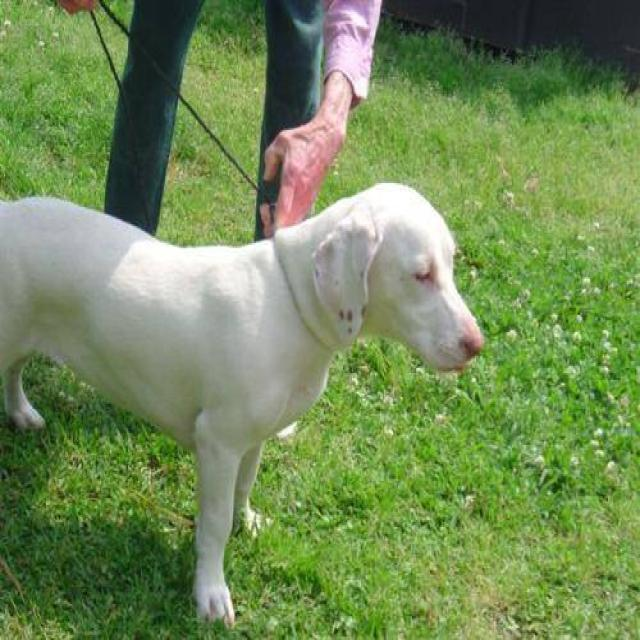dog: (0, 178, 484, 630)
